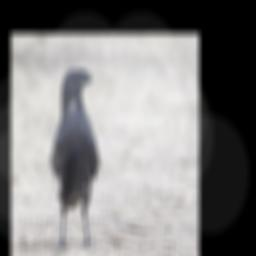Crow: (49, 68, 102, 251)
